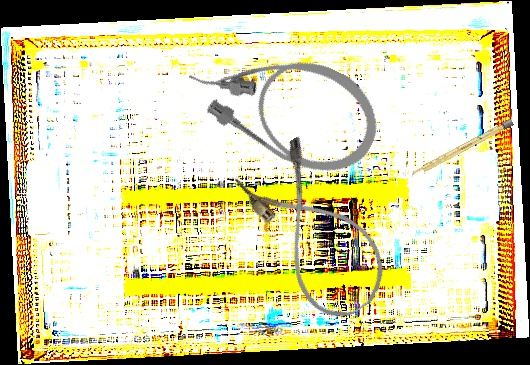Cannula: (174, 15, 394, 191), (230, 132, 401, 331)
Scalpel Handle: (410, 118, 514, 179)
